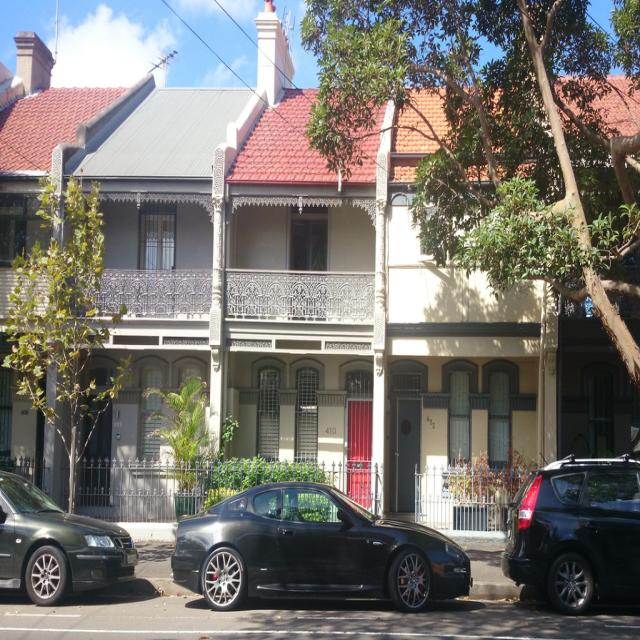car: (166, 477, 474, 608)
